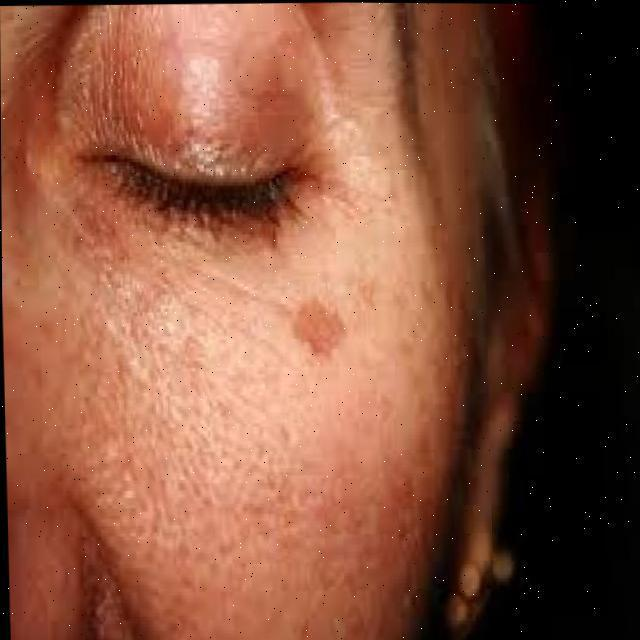pigmentation: (276, 277, 358, 396)
